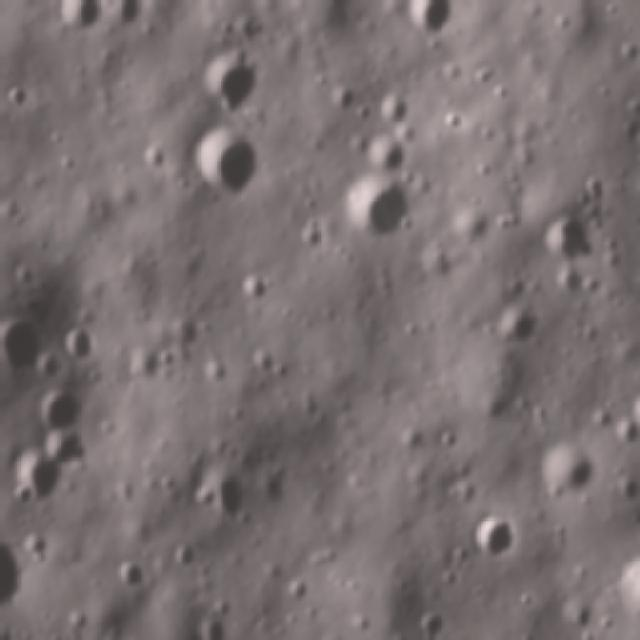crater: (194, 126, 266, 191), (2, 308, 50, 382), (350, 182, 408, 240), (205, 460, 249, 522), (203, 58, 254, 111), (9, 459, 60, 507), (34, 392, 100, 428), (539, 442, 590, 487), (469, 511, 506, 562), (54, 2, 101, 36), (36, 434, 95, 461), (252, 334, 286, 380), (62, 323, 98, 366), (497, 304, 537, 341), (366, 134, 409, 168), (230, 270, 272, 304), (368, 90, 406, 125), (3, 72, 32, 110), (408, 611, 446, 640), (435, 104, 463, 136), (572, 599, 599, 632), (170, 543, 202, 568), (117, 562, 138, 584)
